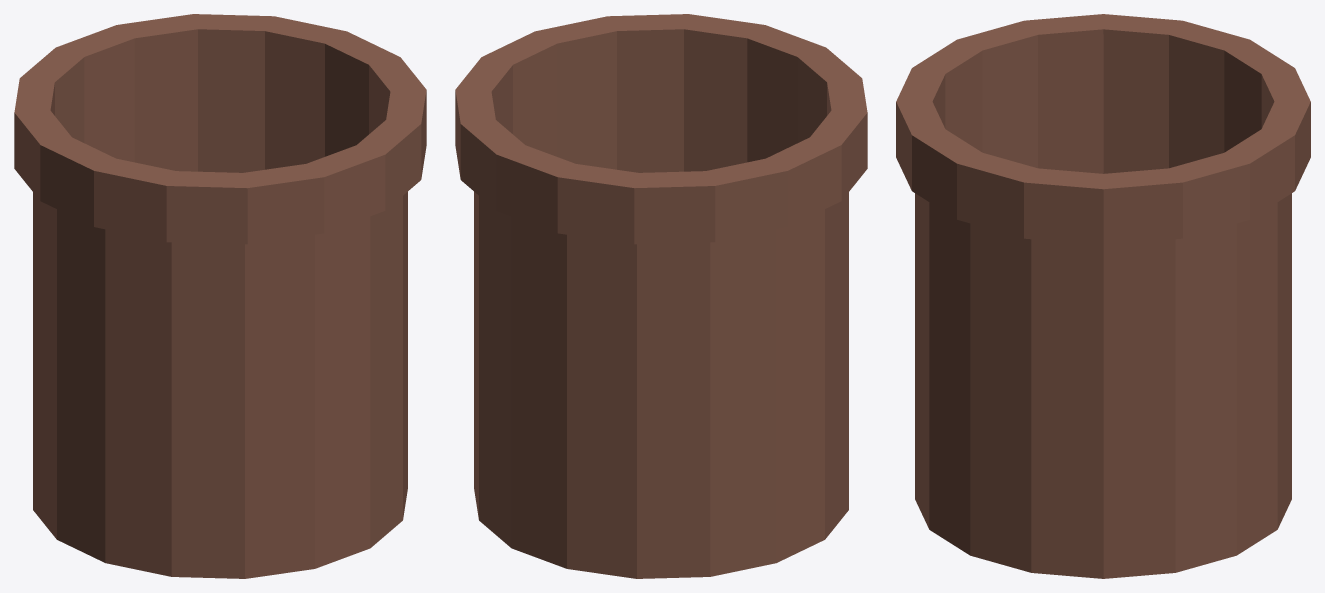
Rendered from Bin.fbx.
The picture shows the model from 3 angles, left to right: view 1: azimuth 30°, elevation 25°; view 2: azimuth 150°, elevation 25°; view 3: azimuth 270°, elevation 25°; orthographic projection.
Visible parts, largest first — view 1: Bin.003; view 2: Bin.003; view 3: Bin.003.
Boxes of the visible parts, <box> form: Bin.003: <box>14,14,426,578</box>; Bin.003: <box>455,14,867,578</box>; Bin.003: <box>896,14,1310,578</box>.
Size of the model in its own units: 96.86 by 103 by 96.86.
